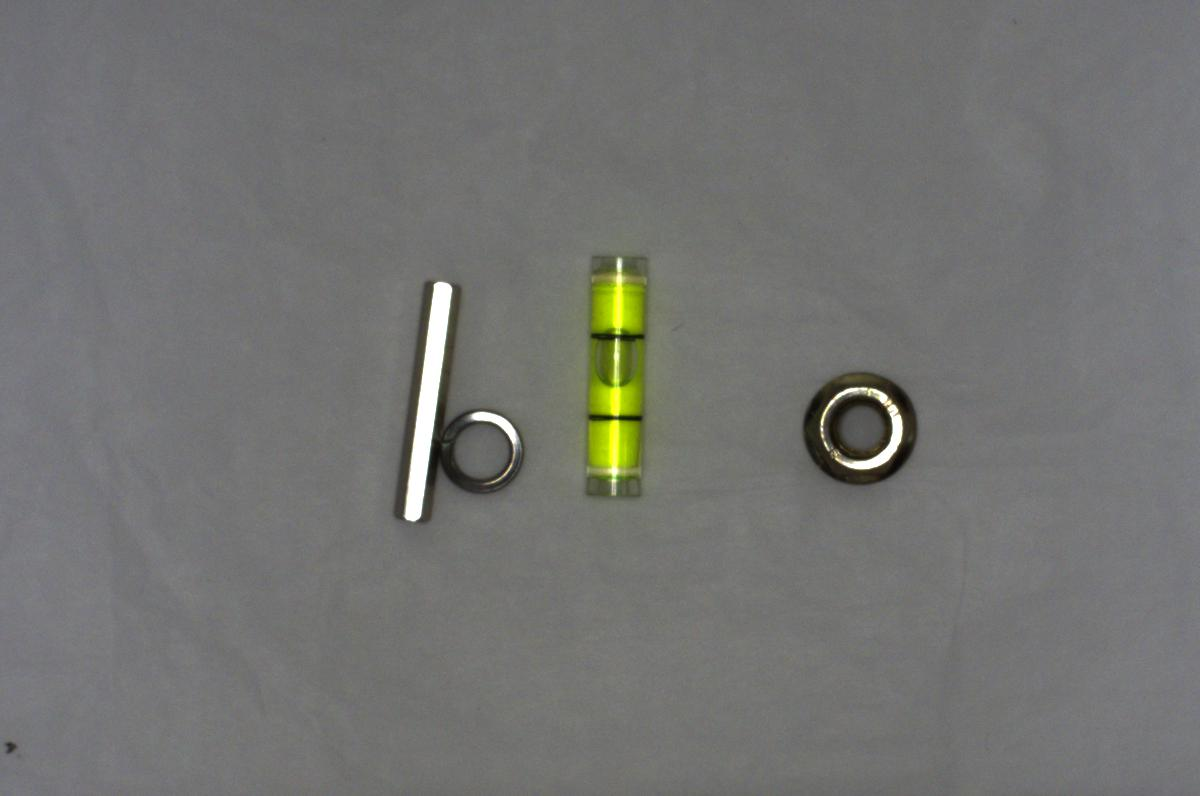Double hexagonal column: (379, 273, 452, 529)
Flange nut: (795, 360, 933, 498)
Horizontal bubble: (571, 240, 664, 503)
Spring washer: (430, 402, 524, 496)
